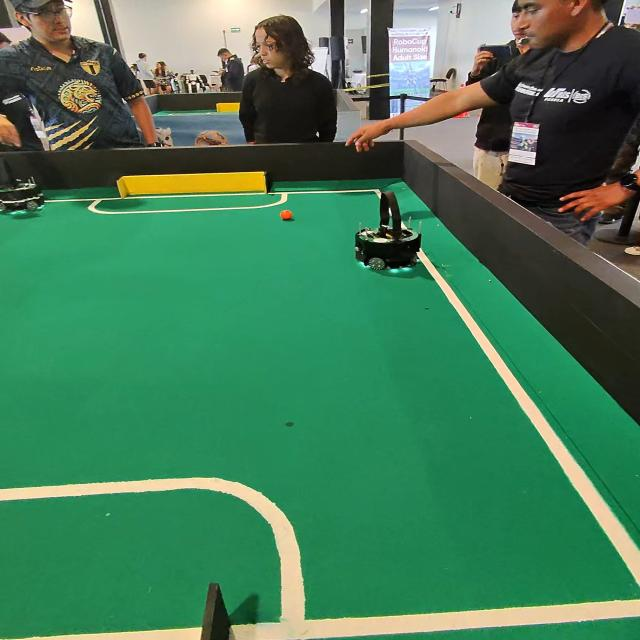Robot: (349, 183, 430, 275), (0, 148, 65, 226)
pelota: (265, 206, 305, 228)
